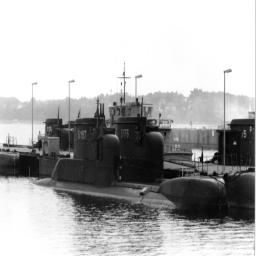submarine: (35, 118, 230, 211), (110, 118, 256, 210)
